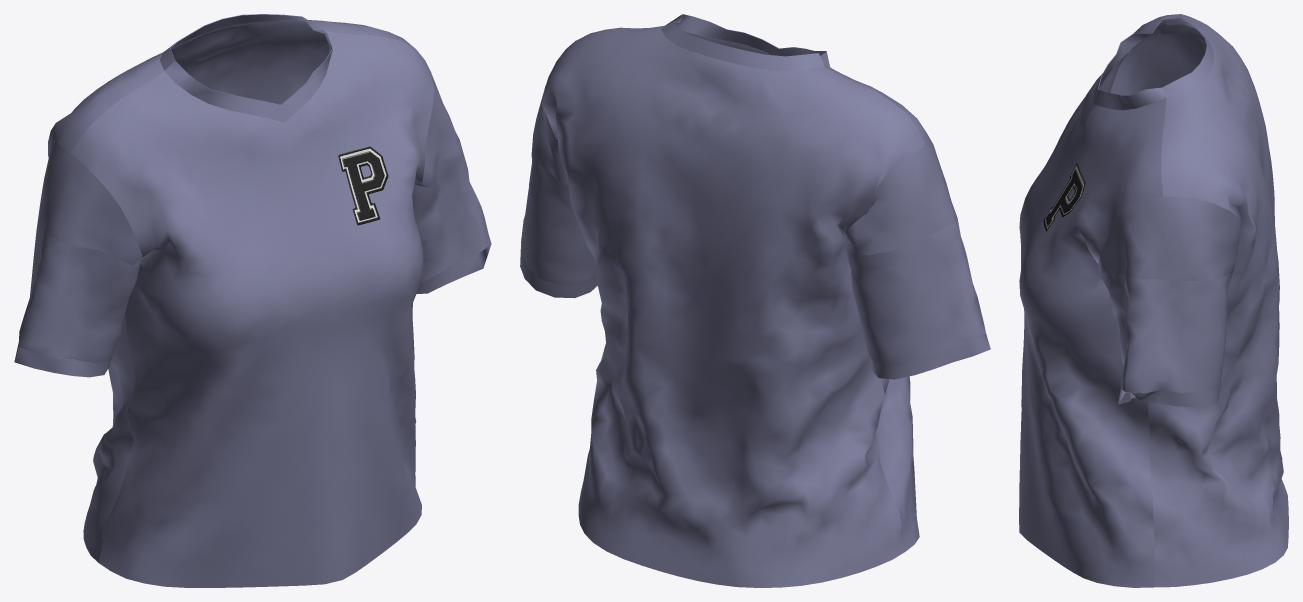
3 renders of one model, left to right at view 1: azimuth 30°, elevation 25°; view 2: azimuth 150°, elevation 25°; view 3: azimuth 270°, elevation 25°, orthographic. The views are drawn at different scales.
Parts seen in each view (by area): view 1: Pattern2D_482616, Pattern2D_487092, Pattern2D_200717, Pattern2D_200916, Pattern2D_203654, MatShape_14449, Pattern2D_3805017, Pattern2D_203397, Pattern2D_190946, Pattern2D_3805002, Pattern2D_193312, Pattern2D_3805018; view 2: Pattern2D_487092, Pattern2D_200717, Pattern2D_200916, Pattern2D_203654, Pattern2D_482616, Pattern2D_3805002, Pattern2D_190946, Pattern2D_203397, Pattern2D_3805018, Pattern2D_193312; view 3: Pattern2D_482616, Pattern2D_487092, Pattern2D_203654, Pattern2D_203397, Pattern2D_200916, Pattern2D_193312, Pattern2D_3805002, Pattern2D_3805018, MatShape_14449, Pattern2D_3805017.
Part boxes in pixels (box(x1,y1,x2,y2)): Pattern2D_482616: box(71, 30, 434, 587); Pattern2D_487092: box(48, 19, 415, 562); Pattern2D_200717: box(19, 218, 140, 362); Pattern2D_200916: box(38, 139, 142, 265); Pattern2D_203654: box(412, 140, 491, 281); MatShape_14449: box(338, 146, 388, 225); Pattern2D_3805017: box(164, 60, 283, 122); Pattern2D_203397: box(414, 63, 459, 187); Pattern2D_190946: box(14, 342, 112, 377); Pattern2D_3805002: box(160, 14, 322, 70); Pattern2D_193312: box(416, 245, 490, 293); Pattern2D_3805018: box(281, 30, 332, 122); Pattern2D_487092: box(542, 25, 924, 587); Pattern2D_200717: box(846, 218, 986, 364); Pattern2D_200916: box(844, 143, 957, 255); Pattern2D_203654: box(521, 154, 596, 285); Pattern2D_482616: box(622, 27, 933, 551); Pattern2D_3805002: box(661, 21, 824, 70); Pattern2D_190946: box(869, 334, 990, 379); Pattern2D_203397: box(531, 63, 568, 185); Pattern2D_3805018: box(665, 14, 780, 55); Pattern2D_193312: box(520, 241, 597, 298); Pattern2D_482616: box(1019, 17, 1166, 587); Pattern2D_487092: box(1148, 14, 1288, 587); Pattern2D_203654: box(1100, 272, 1232, 392); Pattern2D_203397: box(1098, 196, 1241, 280); Pattern2D_200916: box(1110, 33, 1206, 95); Pattern2D_193312: box(1118, 388, 1219, 407); Pattern2D_3805002: box(1162, 17, 1213, 97); Pattern2D_3805018: box(1092, 87, 1166, 110); MatShape_14449: box(1043, 163, 1085, 231); Pattern2D_3805017: box(1092, 20, 1166, 103).
Bounding box in the file's own units: 51.48 × 52.8 × 26.99.
